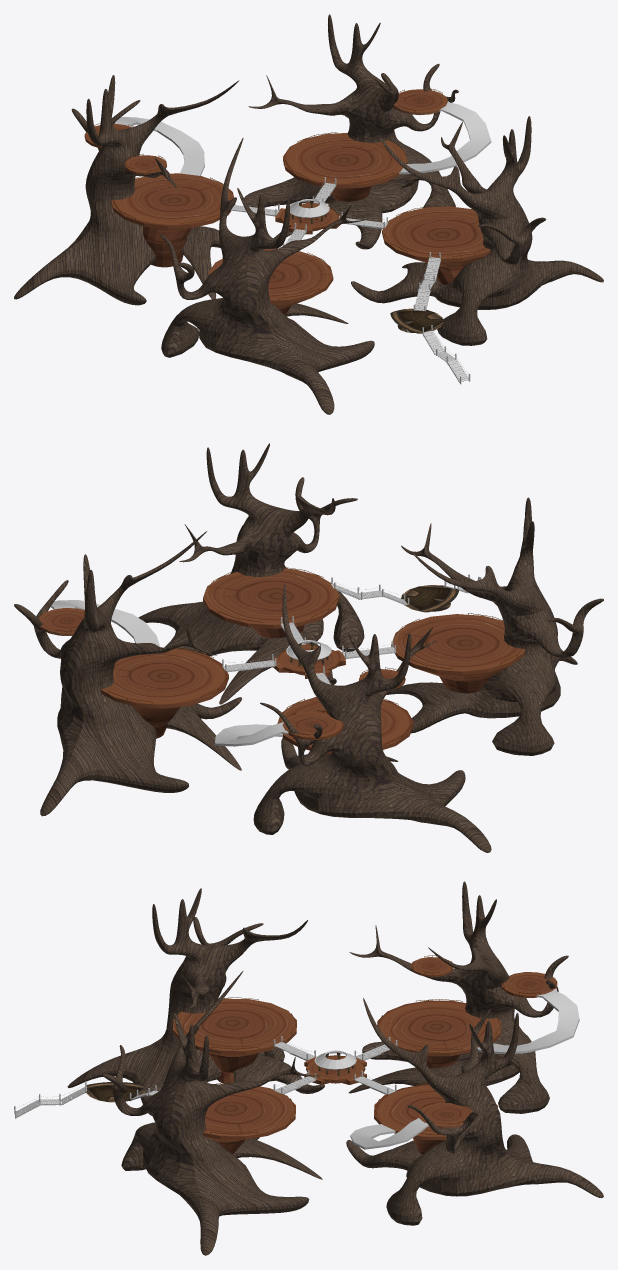
Rendered from SatyrVillage.fbx.
3 renders of one model, top to bottom at view 1: azimuth 30°, elevation 25°; view 2: azimuth 150°, elevation 25°; view 3: azimuth 270°, elevation 25°, orthographic. The views are drawn at different scales.
Visible parts, largest first — view 1: Cube_3_8, Cube_2_8, Cube_4_8, Cube, Платформа1, боковая_платформа_2, боковая_платформа_3, боковая_платформа_4, Лестница_1, Лестница, Платформа_1_2_2, Платформа_1_2_2.001 (+4 smaller); view 2: Cube_4_8, Cube, Cube_3_8, Cube_2_8, боковая_платформа_4, боковая_платформа_3, боковая_платформа_2, Платформа1, Лестница, Платформа_1_2_2.001, Платформа_1_2, Лестница_1 (+3 smaller); view 3: Cube_2_8, Cube, Cube_3_8, Cube_4_8, боковая_платформа_4, Платформа1, боковая_платформа_3, боковая_платформа_2, Лестница, Лестница_1, Низ_платформы, Платформа_1_2 (+5 smaller).
Boxes of the visible parts, <box> form: Cube_3_8: <box>159,138,374,414</box>; Cube_2_8: <box>351,116,603,345</box>; Cube_4_8: <box>14,75,239,305</box>; Cube: <box>244,14,458,249</box>; Платформа1: <box>111,173,235,267</box>; боковая_платформа_2: <box>283,133,407,201</box>; боковая_платформа_3: <box>382,206,490,284</box>; боковая_платформа_4: <box>208,248,333,315</box>; Лестница_1: <box>399,101,491,174</box>; Лестница: <box>114,117,204,175</box>; Платформа_1_2_2: <box>393,89,447,115</box>; Платформа_1_2_2.001: <box>390,308,443,333</box>; Cube_4_8: <box>253,584,491,852</box>; Cube: <box>14,531,242,816</box>; Cube_3_8: <box>386,497,603,755</box>; Cube_2_8: <box>138,443,364,704</box>; боковая_платформа_4: <box>391,614,525,693</box>; боковая_платформа_3: <box>203,568,339,638</box>; боковая_платформа_2: <box>100,648,228,738</box>; Платформа1: <box>277,697,413,754</box>; Лестница: <box>214,722,288,746</box>; Платформа_1_2_2.001: <box>401,585,458,612</box>; Платформа_1_2: <box>282,712,343,740</box>; Лестница_1: <box>50,600,160,646</box>; Cube_2_8: <box>102,971,322,1255</box>; Cube: <box>346,998,603,1225</box>; Cube_3_8: <box>67,888,324,1115</box>; Cube_4_8: <box>348,881,568,1113</box>; боковая_платформа_4: <box>173,998,296,1083</box>; Платформа1: <box>377,1000,501,1068</box>; боковая_платформа_3: <box>202,1084,295,1154</box>; боковая_платформа_2: <box>374,1084,497,1154</box>; Лестница: <box>477,988,579,1053</box>; Лестница_1: <box>350,1118,429,1149</box>; Низ_платформы: <box>304,1055,366,1084</box>; Платформа_1_2: <box>502,972,557,997</box>.
Size of what is drawn, in the model's own units: 46363 by 17797 by 50974.
